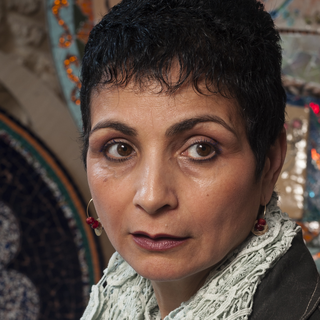eye: (177, 138, 226, 165), (96, 136, 139, 164)
